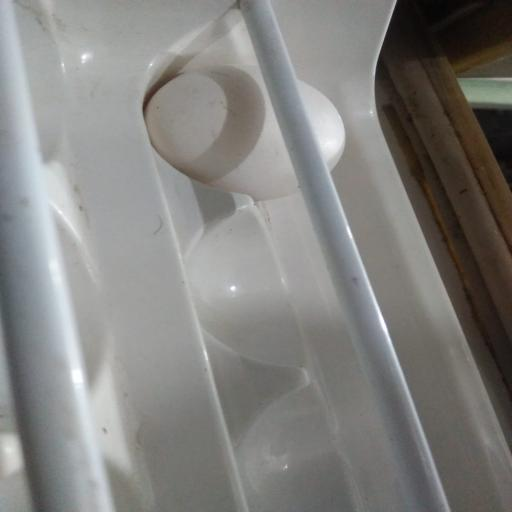telur: (138, 53, 353, 203)
